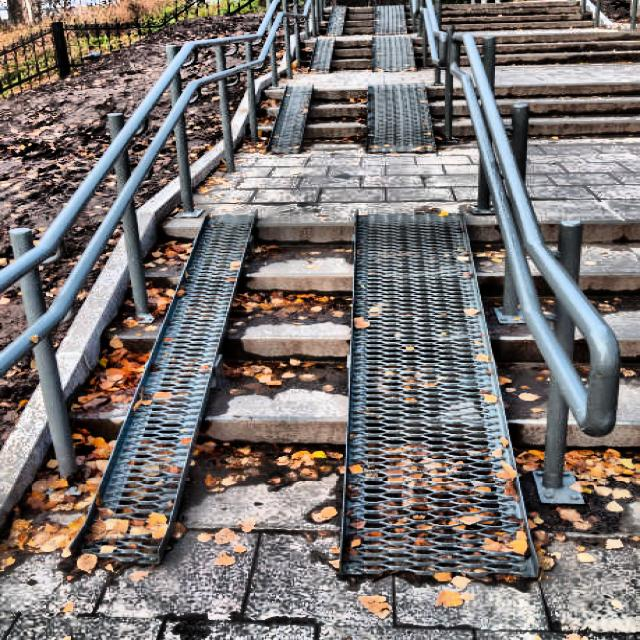escada: (538, 219, 639, 368), (494, 84, 640, 137), (472, 35, 640, 64), (439, 5, 600, 30)
